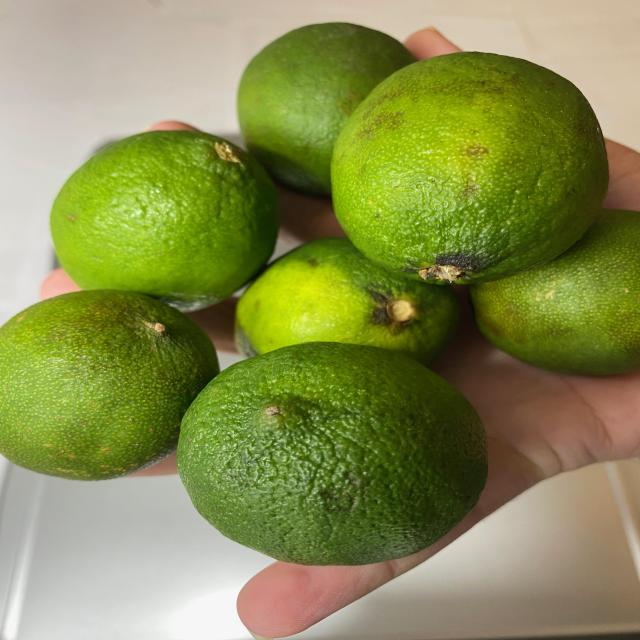lemon: (2, 20, 636, 562)
